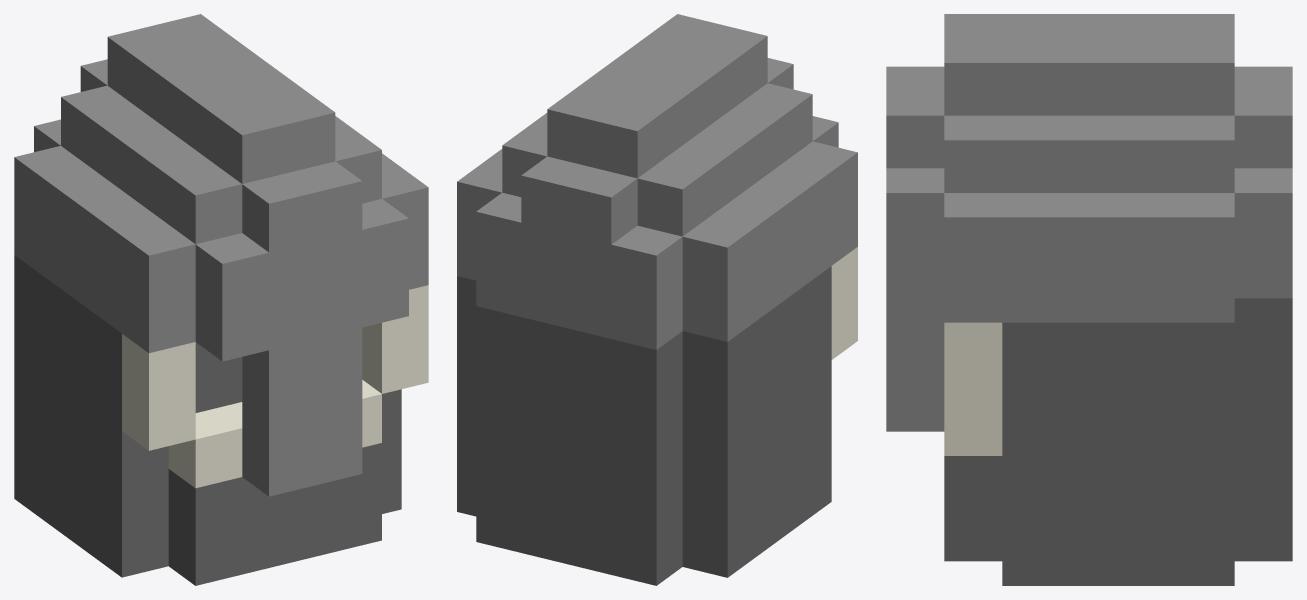
Rendered from humanoid-246-helm_med_2c_du.obj.
The picture shows the model from 3 angles, left to right: view 1: azimuth 30°, elevation 25°; view 2: azimuth 150°, elevation 25°; view 3: azimuth 270°, elevation 25°; orthographic projection. The views are drawn at different scales.
Parts seen in each view (by area): view 1: helm_med_2c_du; view 2: helm_med_2c_du; view 3: helm_med_2c_du.
Part boxes in pixels (x1,y1,x2,y2): helm_med_2c_du: (14, 14, 428, 585); helm_med_2c_du: (457, 14, 857, 585); helm_med_2c_du: (886, 14, 1292, 585).
Size of the model in its own units: 0.6 by 0.9 by 0.7.
1 material, 1 textured.
